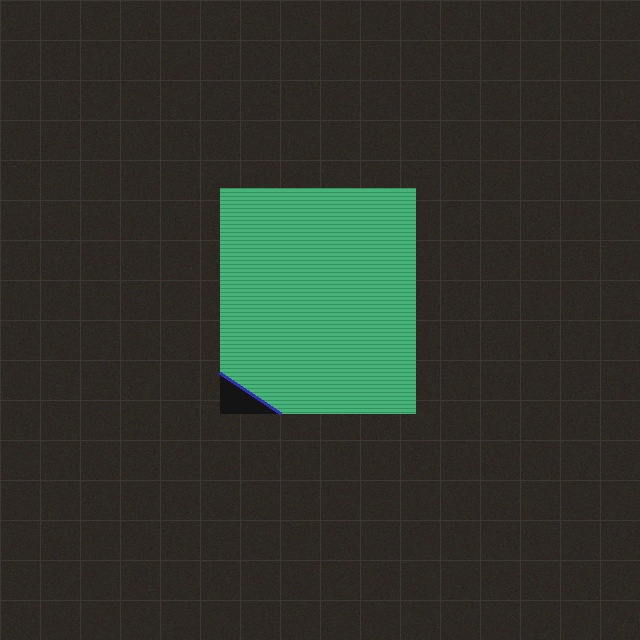warping: (210, 353, 300, 423)
